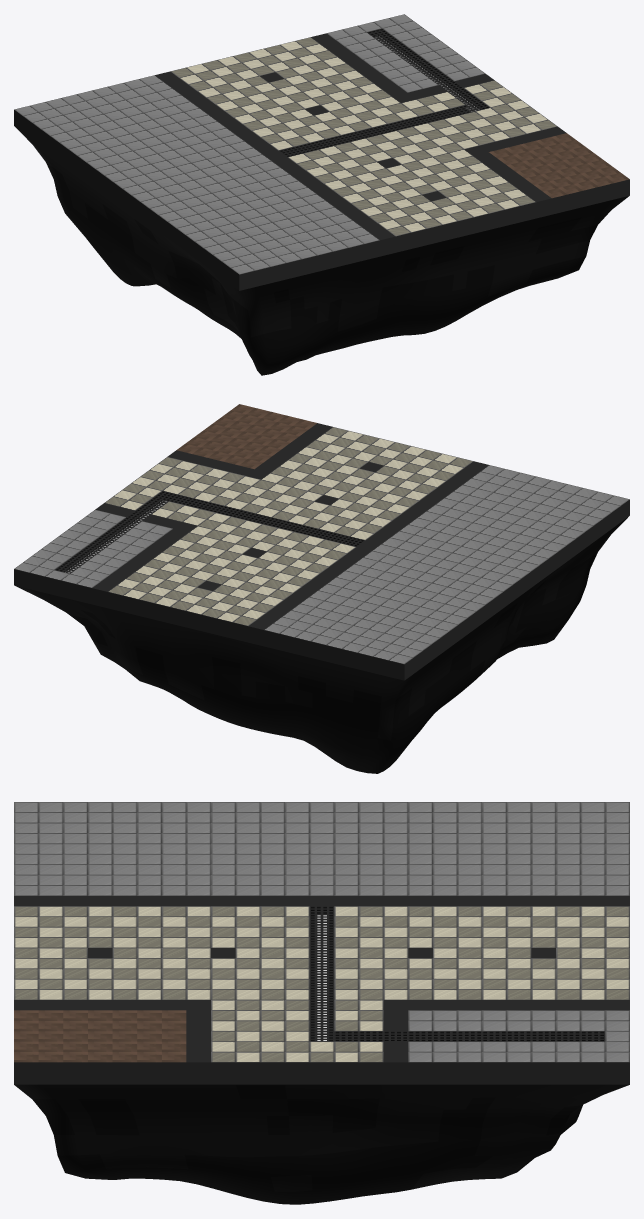
File: Vault Land Chunk + Wires + Grate.FBX
The picture shows the model from 3 angles, top to bottom: view 1: azimuth 30°, elevation 25°; view 2: azimuth 150°, elevation 25°; view 3: azimuth 270°, elevation 25°; orthographic projection. The views are drawn at different scales.
Parts seen in each view (by area): view 1: Vault Land Chunk; view 2: Vault Land Chunk; view 3: Vault Land Chunk, Wires.
Boxes of the visible parts, <box> form: Vault Land Chunk: <box>14,14,629,375</box>; Vault Land Chunk: <box>14,404,629,773</box>; Vault Land Chunk: <box>14,802,629,1204</box>; Wires: <box>317,915,326,1040</box>.
Size of the model in its own units: 2500 by 968 by 2500.
7 materials, 4 textured.
